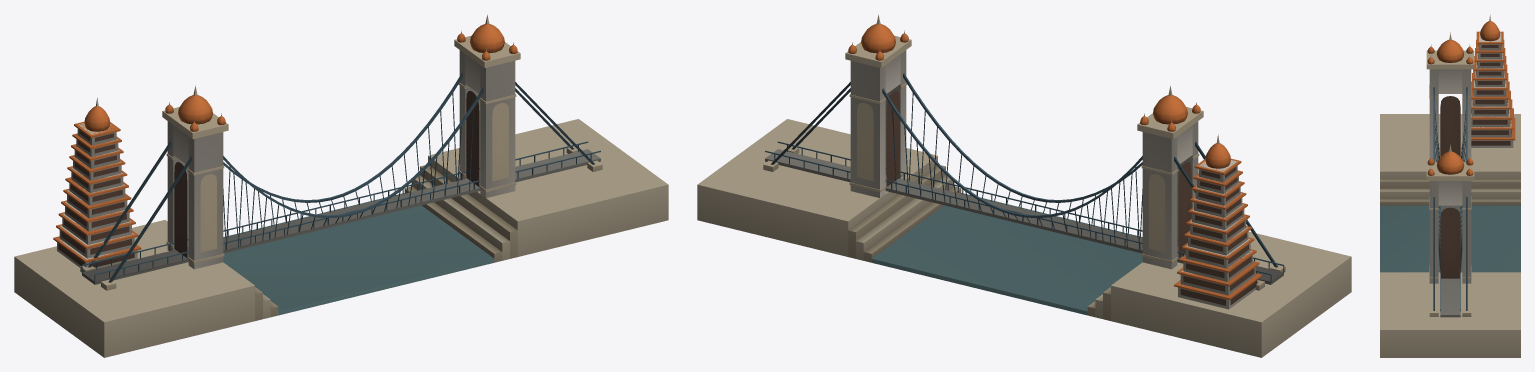
File: laxman-jhula.glb
3 renders of one model, left to right at view 1: azimuth 30°, elevation 25°; view 2: azimuth 150°, elevation 25°; view 3: azimuth 270°, elevation 25°, orthographic. The views are drawn at different scales.
Visible parts, largest first — view 1: laxman-jhula; view 2: laxman-jhula; view 3: laxman-jhula.
Boxes of the visible parts, x1,y1,x2,y2 form: laxman-jhula: (14,14,668,357); laxman-jhula: (697,14,1351,357); laxman-jhula: (1380,14,1520,357).
Bounding box in the file's own units: 2.86 × 0.9998 × 0.7885.
